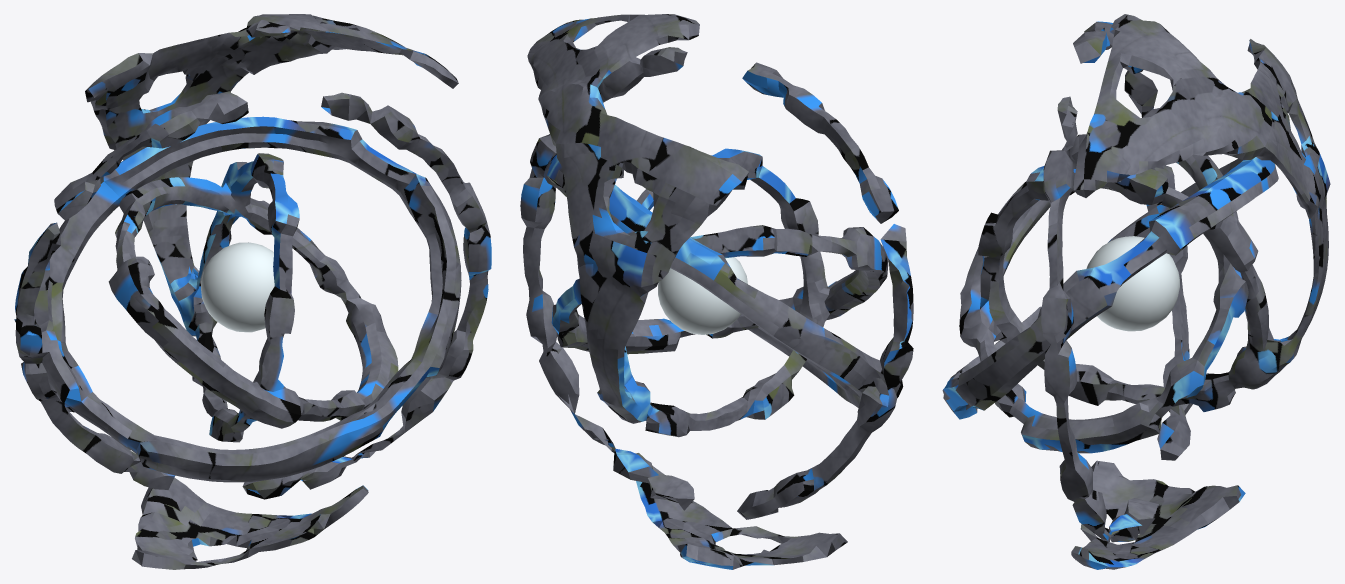
File: beacon.fbx
3 renders of one model, left to right at view 1: azimuth 30°, elevation 25°; view 2: azimuth 150°, elevation 25°; view 3: azimuth 270°, elevation 25°, orthographic. The views are drawn at different scales.
Visible parts, largest first — view 1: Beacon_Ring_Mid_2, Beacon_Ring_Outer, Beacon_Ring_Mid_1, Beacon_Ring_Inner, Beacon_Arch_Top, Beacon_Arch_Bottom, Beacon_Core_Sphere; view 2: Beacon_Ring_Outer, Beacon_Ring_Mid_2, Beacon_Arch_Top, Beacon_Ring_Mid_1, Beacon_Ring_Inner, Beacon_Arch_Bottom, Beacon_Core_Sphere; view 3: Beacon_Arch_Top, Beacon_Ring_Mid_2, Beacon_Ring_Outer, Beacon_Ring_Inner, Beacon_Ring_Mid_1, Beacon_Arch_Bottom, Beacon_Core_Sphere.
Part boxes in pixels (x1,y1,x2,y2): Beacon_Ring_Mid_2: (34, 58, 461, 482); Beacon_Ring_Outer: (14, 91, 491, 499); Beacon_Ring_Mid_1: (103, 139, 398, 428); Beacon_Ring_Inner: (148, 116, 299, 442); Beacon_Arch_Top: (85, 14, 458, 111); Beacon_Arch_Bottom: (132, 477, 368, 569); Beacon_Core_Sphere: (201, 242, 274, 332); Beacon_Ring_Outer: (520, 47, 913, 519); Beacon_Ring_Mid_2: (543, 137, 903, 411); Beacon_Arch_Top: (527, 14, 748, 225); Beacon_Ring_Mid_1: (551, 225, 888, 354); Beacon_Ring_Inner: (586, 148, 825, 437); Beacon_Arch_Bottom: (635, 453, 847, 569); Beacon_Core_Sphere: (658, 257, 747, 334); Beacon_Arch_Top: (1073, 14, 1298, 197); Beacon_Ring_Mid_2: (942, 95, 1330, 419); Beacon_Ring_Outer: (1041, 21, 1192, 542); Beacon_Ring_Inner: (978, 166, 1326, 411); Beacon_Ring_Mid_1: (959, 134, 1325, 453); Beacon_Arch_Bottom: (1071, 460, 1245, 569); Beacon_Core_Sphere: (1086, 236, 1179, 331).
Bounding box in the file's own units: 84.89 × 97.59 × 62.93.
